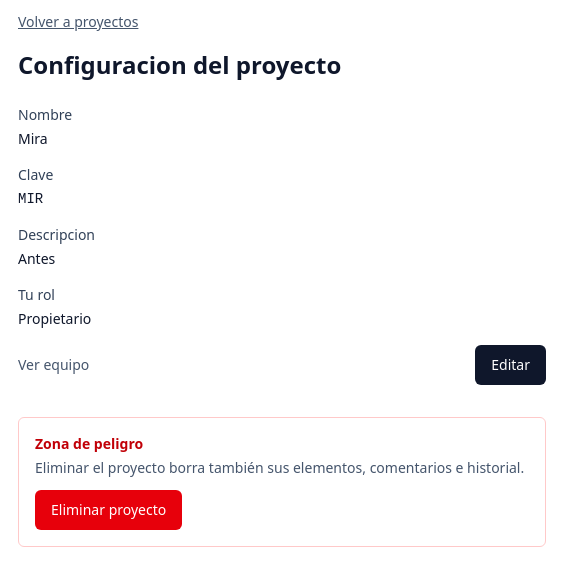
ProjectSettingsPage › un 422 con campo se muestra bajo ese campo
Click the button "Editar".
click(511, 365)  # box [475, 345, 546, 385]
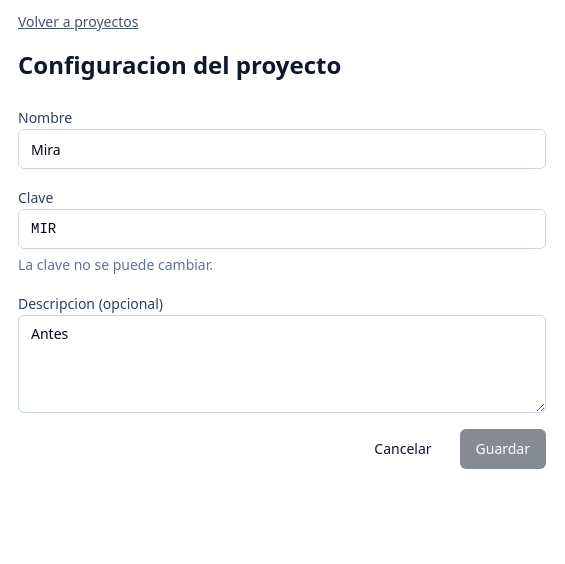
Type " 2" into the field labelled "Nombre".
click(282, 149); type(" 2")  # box [18, 129, 546, 169]
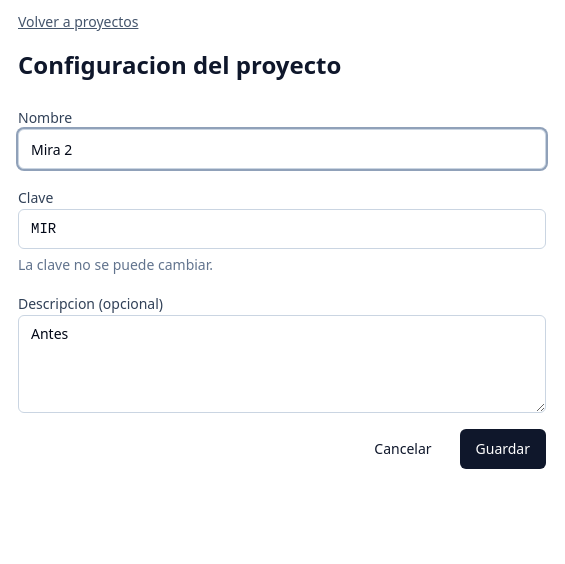
Click the button "Guardar".
click(503, 449)  # box [460, 429, 546, 469]
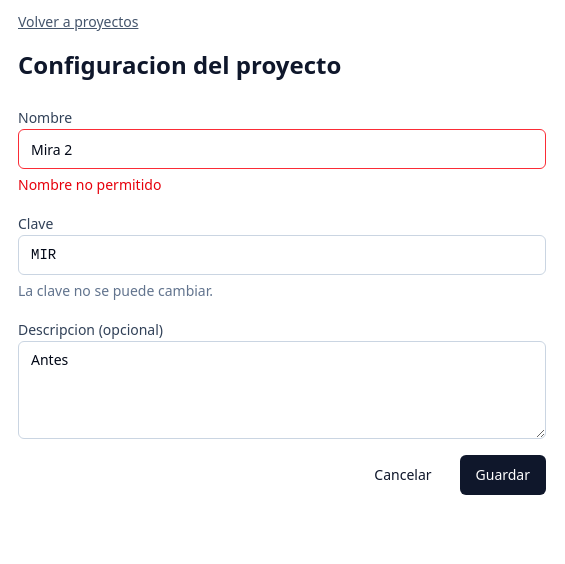
Expected: the field labelled "Nombre" holds "Mira 2", [18, 129, 546, 169]
Expected: the text "Nombre no permitido" is shown, [18, 175, 161, 194]
